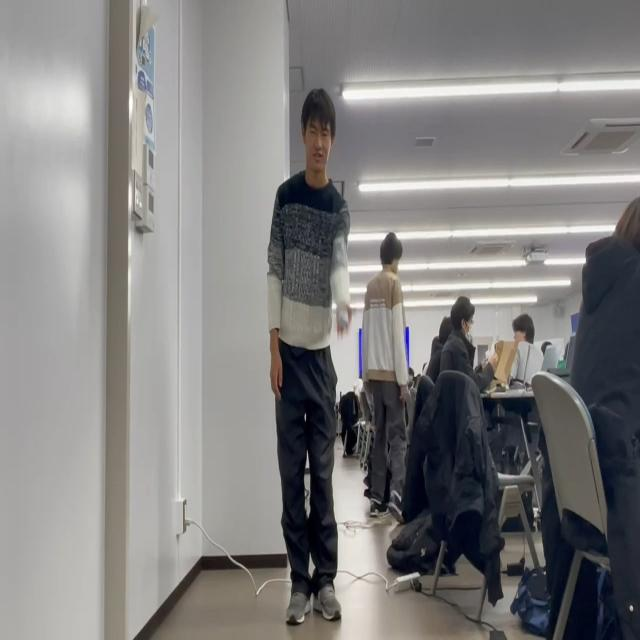paper: (337, 304, 350, 330)
